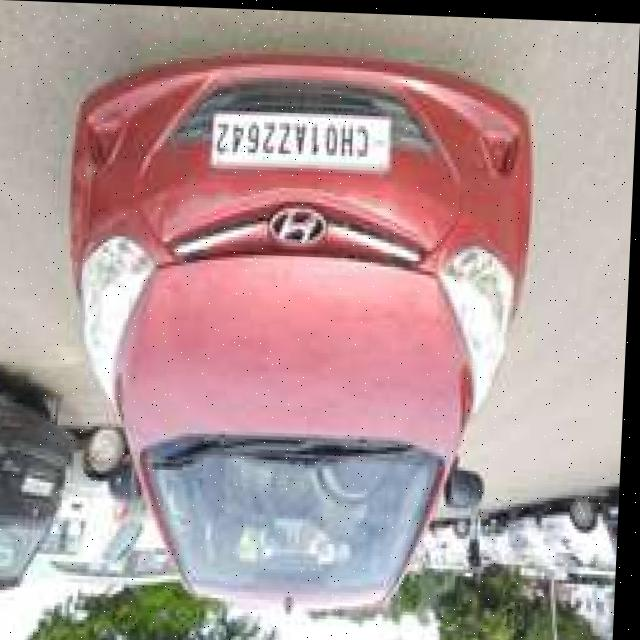plate: (210, 108, 392, 173)
